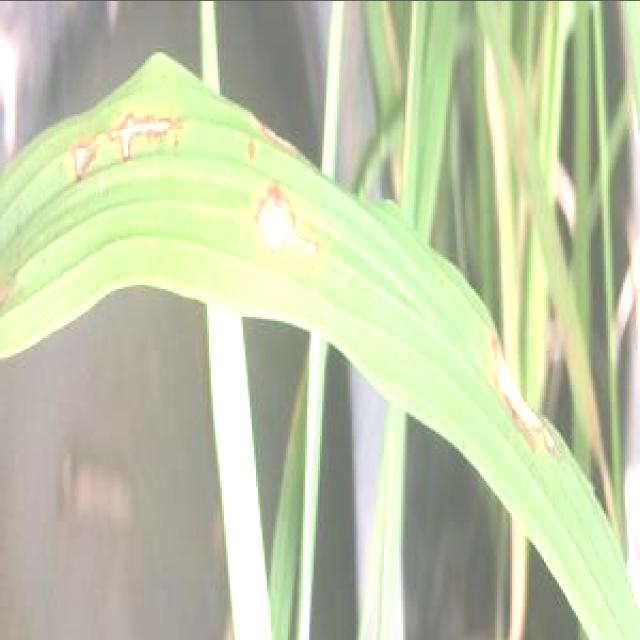Brown_Spot: (219, 178, 332, 276), (58, 108, 186, 188)
